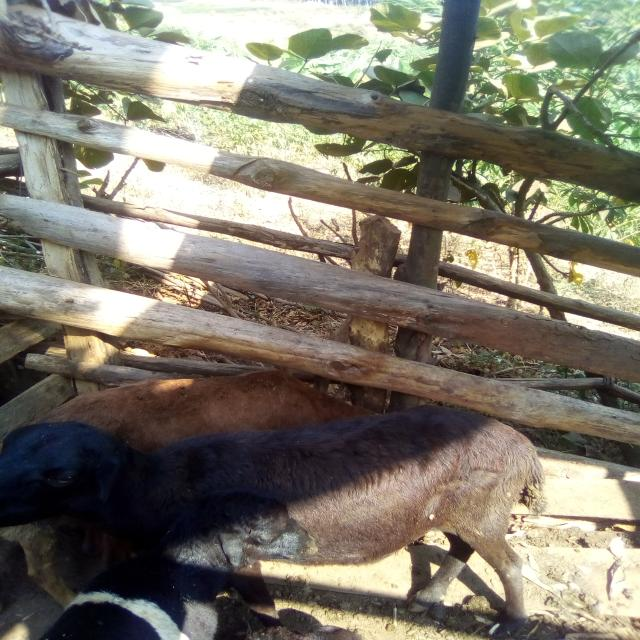sheep: (0, 389, 565, 630)
